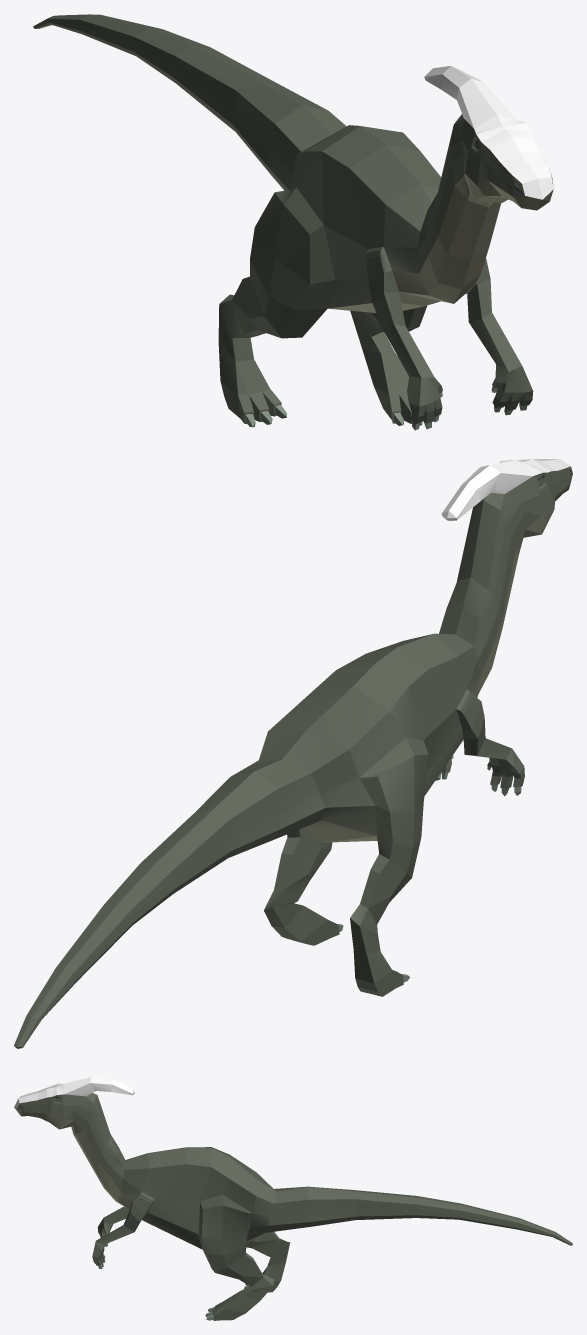
Rendered from dino-parasaurolophus.glb.
3 renders of one model, top to bottom at view 1: azimuth 30°, elevation 25°; view 2: azimuth 150°, elevation 25°; view 3: azimuth 270°, elevation 25°, orthographic. The views are drawn at different scales.
Visible parts, largest first — view 1: Cylinder, Cylinder_2, Cylinder_3, Cylinder_1; view 2: Cylinder, Cylinder_3, Cylinder_2; view 3: Cylinder, Cylinder_2, Cylinder_3.
Boxes of the visible parts, <box> form: Cylinder: <box>33,14,553,423</box>; Cylinder_2: <box>36,24,553,312</box>; Cylinder_3: <box>424,66,553,199</box>; Cylinder_1: <box>245,386,527,430</box>; Cylinder: <box>14,466,572,1048</box>; Cylinder_3: <box>441,459,570,520</box>; Cylinder_2: <box>302,485,569,842</box>; Cylinder: <box>17,1093,572,1320</box>; Cylinder_2: <box>14,1107,253,1242</box>; Cylinder_3: <box>14,1077,134,1108</box>.
Size of the model in its own units: 1.31 by 3.78 by 8.53.
